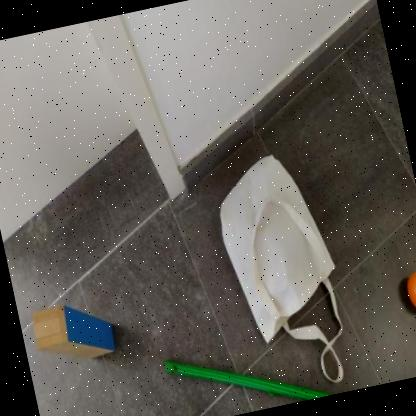bag: (202, 135, 388, 408)
